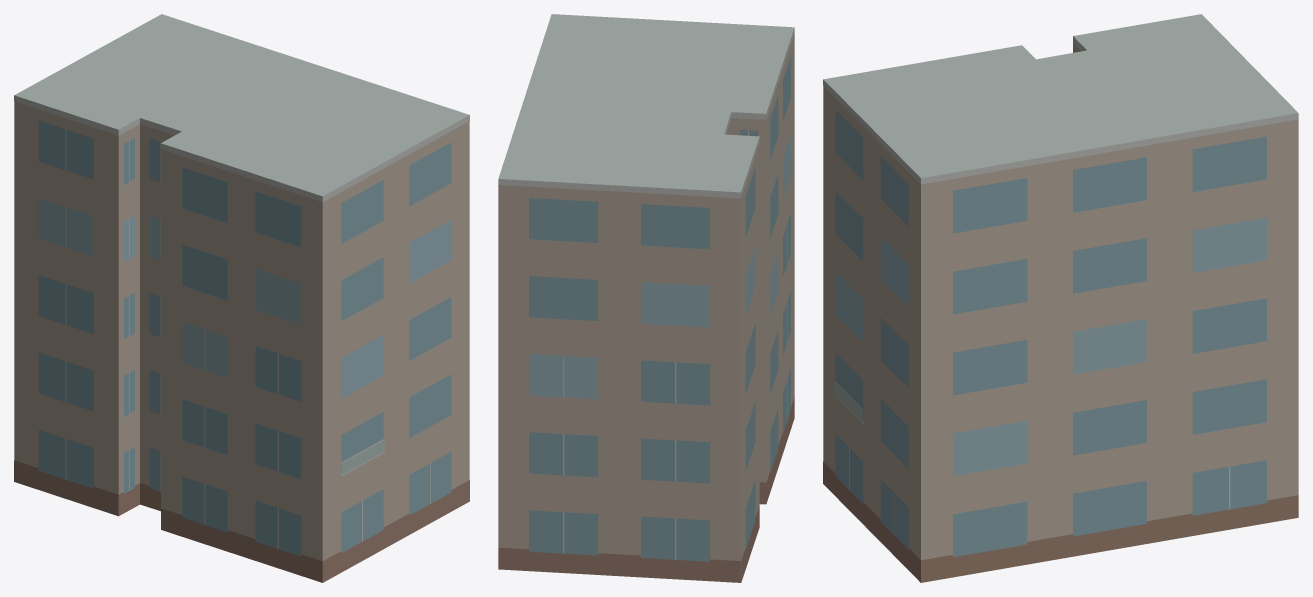
The model's file is survey-upis-33005911.glb.
3 views of the same model, side by side, from view 1: azimuth 30°, elevation 25°; view 2: azimuth 150°, elevation 25°; view 3: azimuth 270°, elevation 25° (orthographic). The views are drawn at different scales.
Parts seen in each view (by area): view 1: survey-upis-33005911.tmp; view 2: survey-upis-33005911.tmp; view 3: survey-upis-33005911.tmp.
Part boxes in pixels (x1,y1,x2,y2): survey-upis-33005911.tmp: (14, 14, 469, 582); survey-upis-33005911.tmp: (498, 14, 794, 582); survey-upis-33005911.tmp: (823, 14, 1298, 582).
Bounding box in the file's own units: 13.77 × 15.8 × 16.84.
